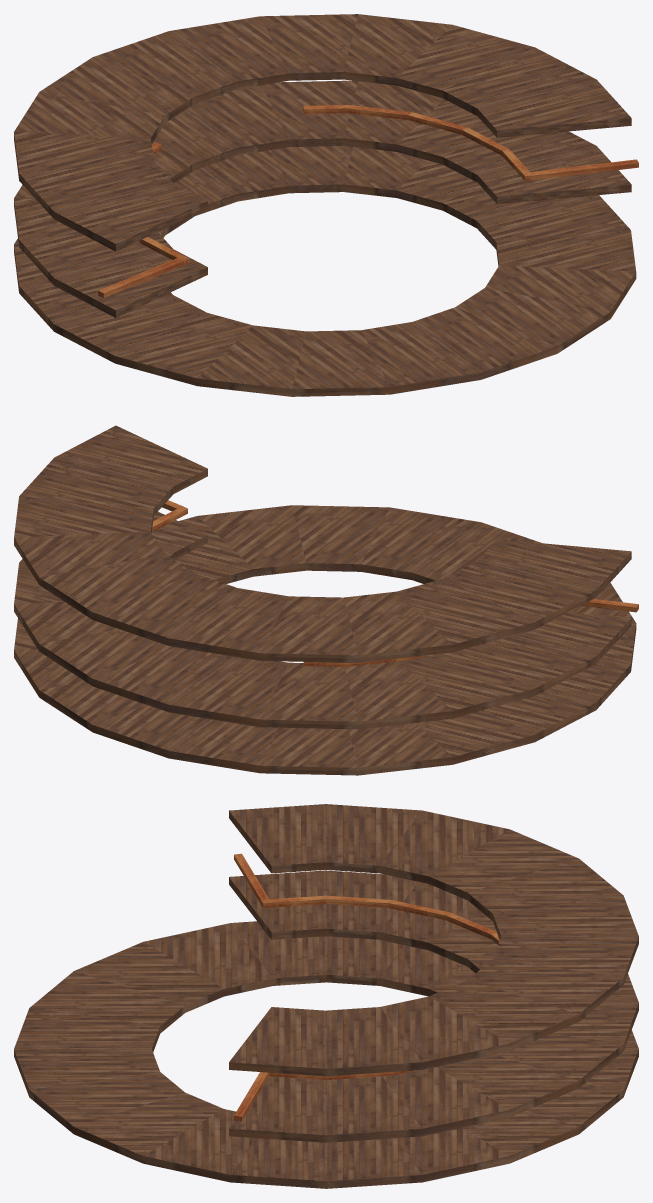
Rendered from Madera.obj.
The picture shows the model from 3 angles, top to bottom: view 1: azimuth 30°, elevation 25°; view 2: azimuth 150°, elevation 25°; view 3: azimuth 270°, elevation 25°; orthographic projection.
Visible parts, largest first — view 1: Madera; view 2: Madera; view 3: Madera.
Part boxes in pixels (box(x1,y1,x2,y2)): Madera: box(14, 14, 638, 396); Madera: box(14, 425, 638, 775); Madera: box(14, 804, 638, 1188).
Size of the model in its own units: 22391 by 4738 by 22337.
2 materials, 2 textured.
